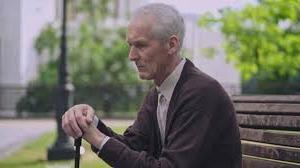NoHuman: (57, 2, 246, 168)
